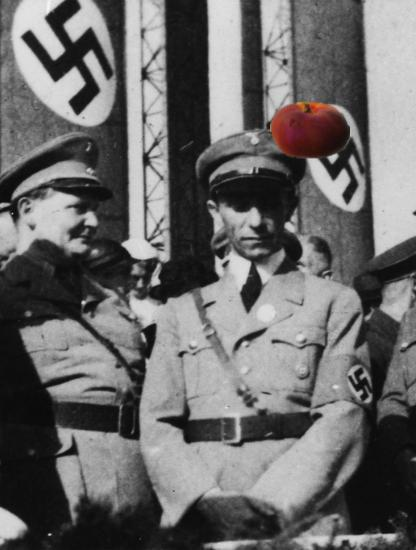Nectarine: (270, 90, 350, 170)
